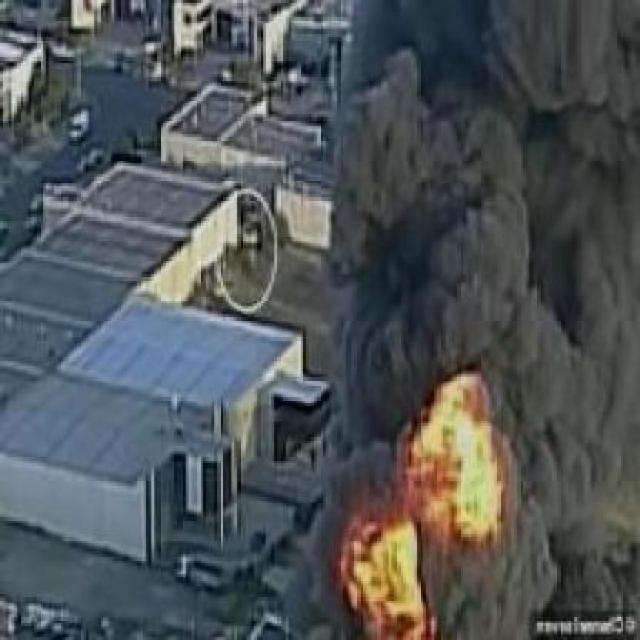Fire: (338, 373, 510, 640)
Smoke: (330, 0, 640, 374)
